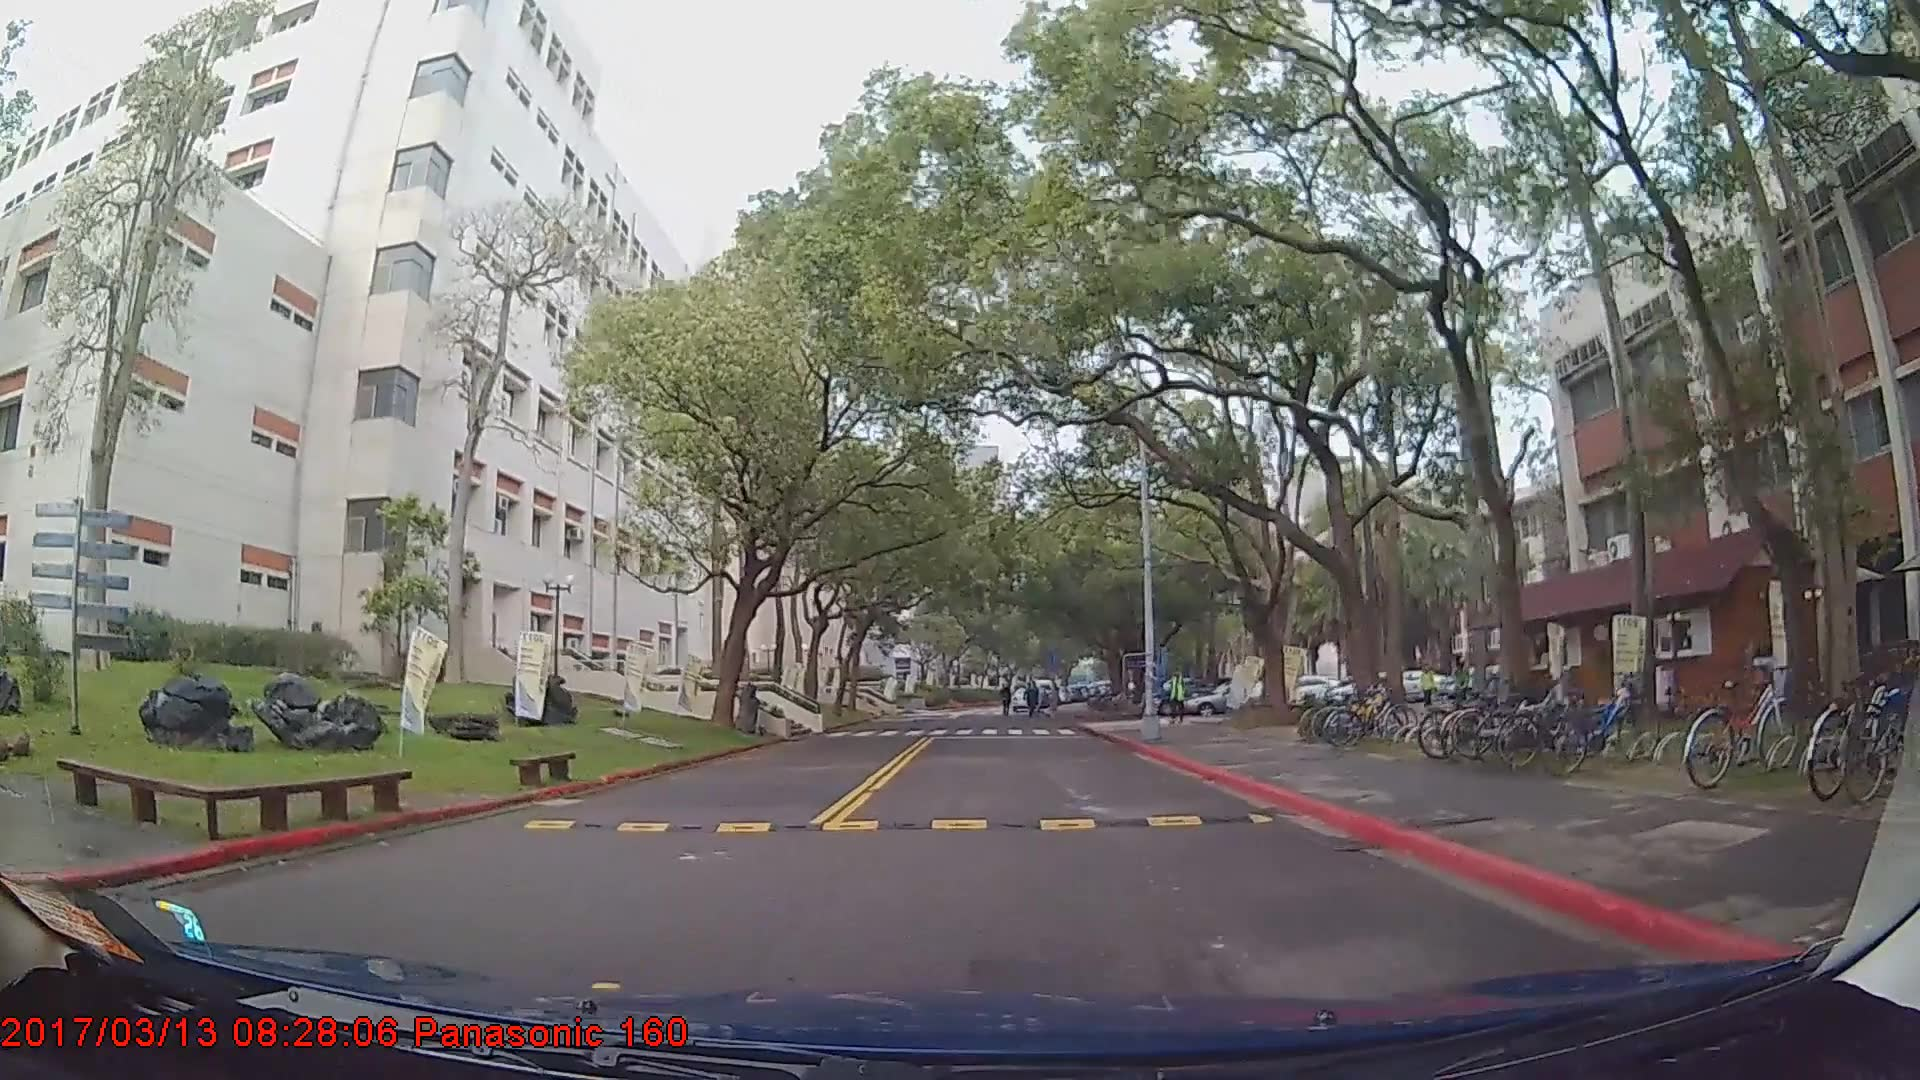vehicle: (1182, 679, 1275, 717)
